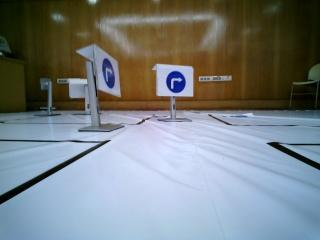right: (152, 62, 197, 98), (90, 47, 120, 97)
